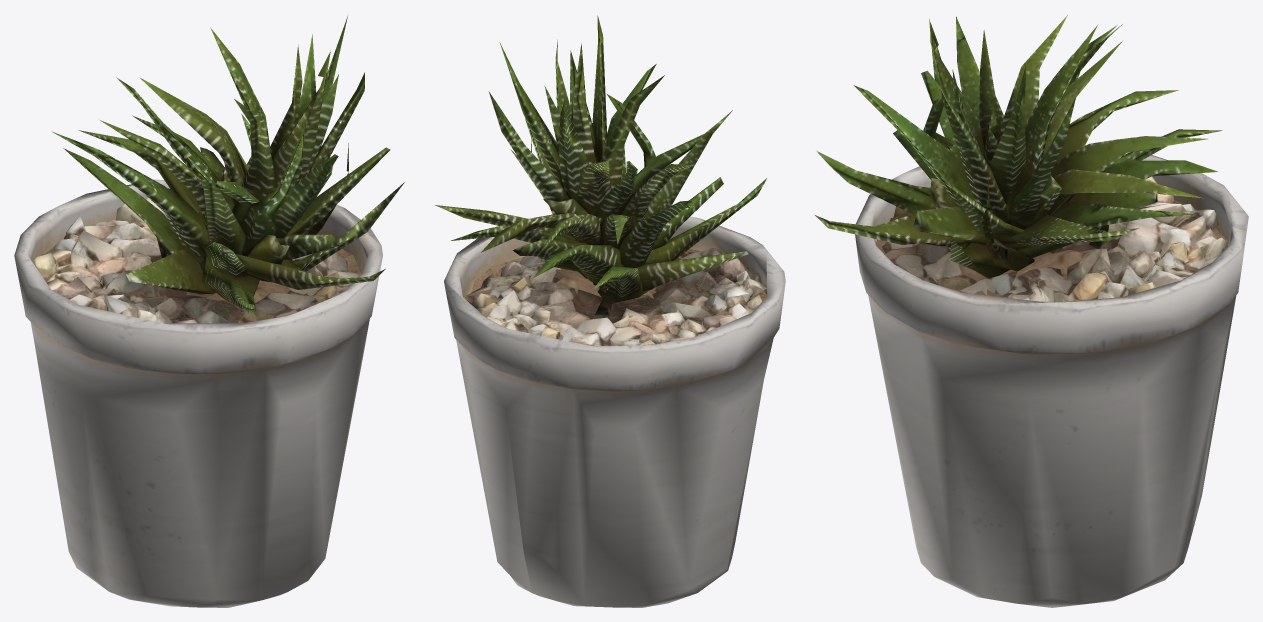
Rendered from plantSmall_hq.glb.
3 renders of one model, left to right at view 1: azimuth 30°, elevation 25°; view 2: azimuth 150°, elevation 25°; view 3: azimuth 270°, elevation 25°, orthographic. The views are drawn at different scales.
Visible parts, largest first — view 1: potted_plant_04_ground; view 2: potted_plant_04_ground; view 3: potted_plant_04_ground.
Part boxes in pixels (left/top/right/bottom): potted_plant_04_ground: left=14, top=16, right=404, bottom=607; potted_plant_04_ground: left=435, top=15, right=785, bottom=607; potted_plant_04_ground: left=815, top=15, right=1248, bottom=607.
Size of the model in its own units: 0.1664 by 0.2672 by 0.1831.
1 material, 1 textured.
